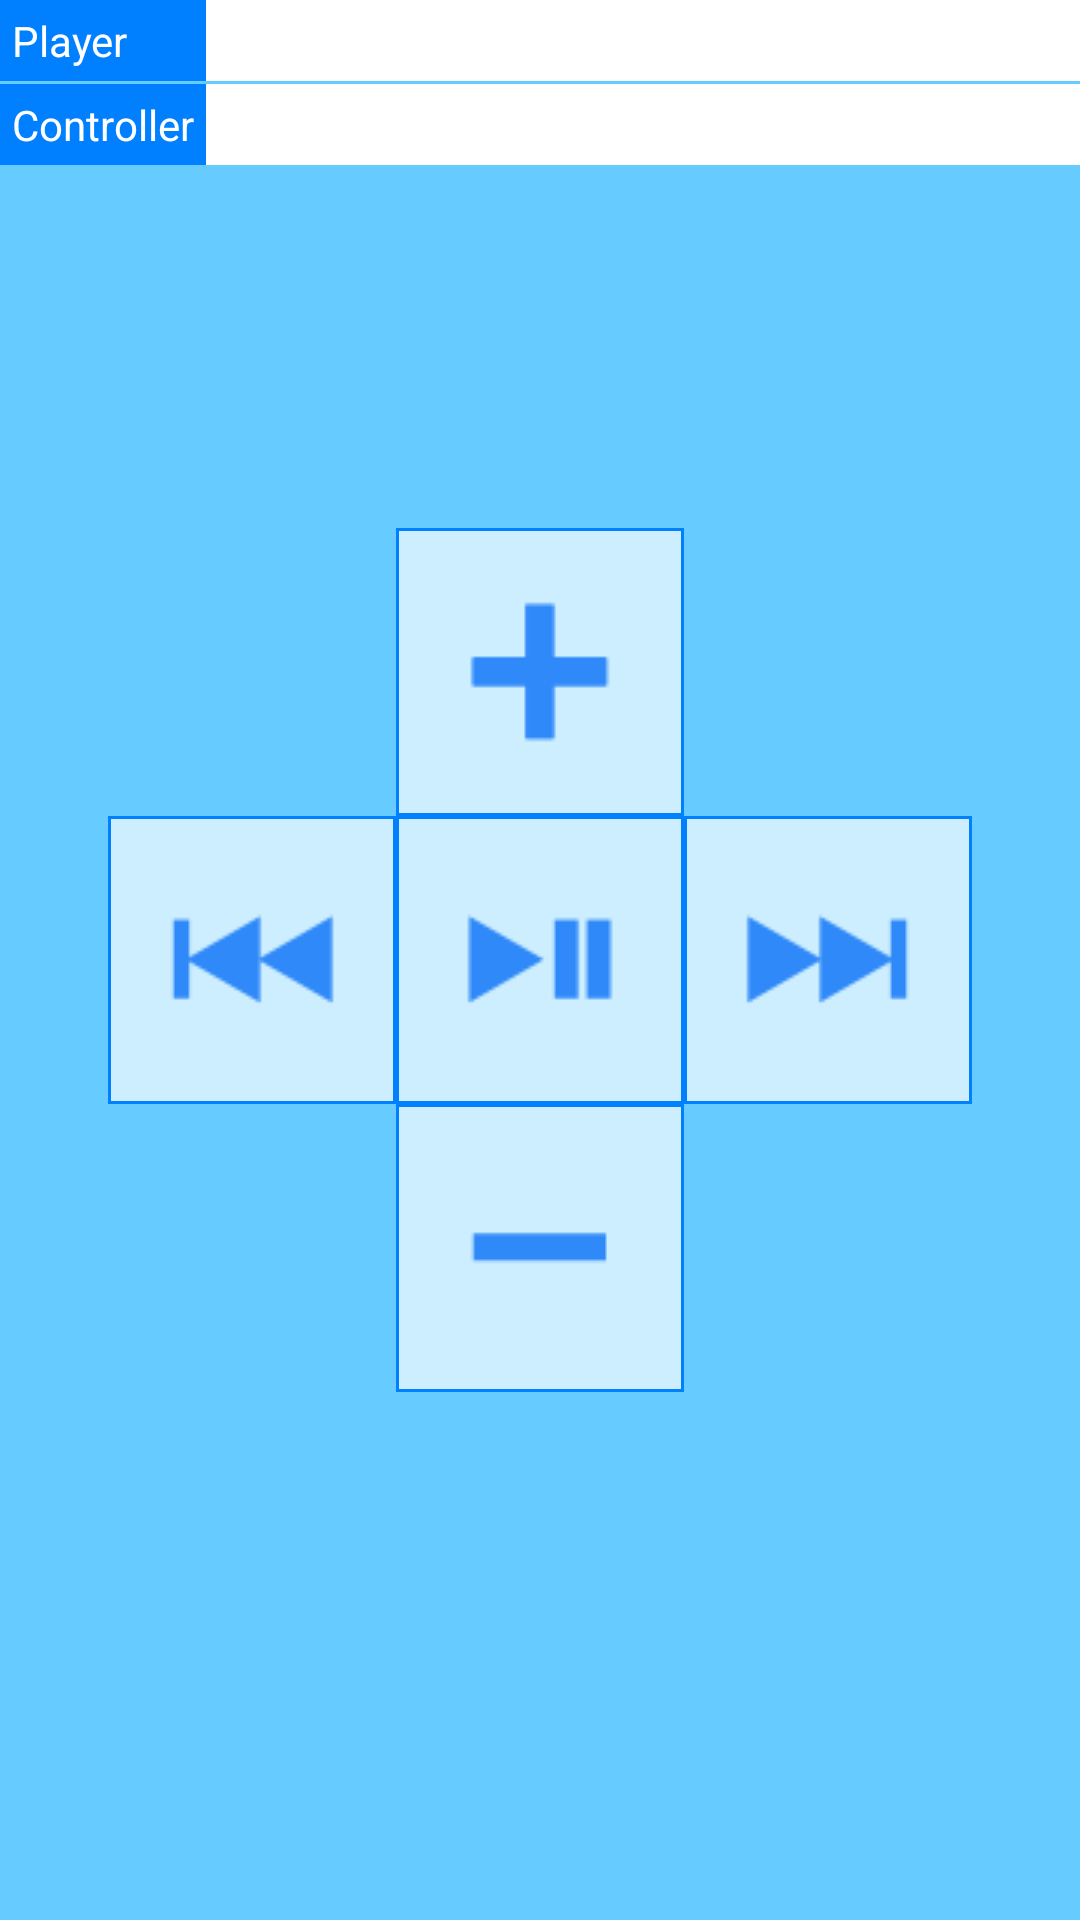

Locate icon controls on the screen. Image size 1080w x 1920h, boxes as BBox(x1, y1, x2, y2).
forward: BBox(684, 816, 972, 1104)
minus: BBox(396, 1104, 684, 1392)
play pause: BBox(399, 819, 681, 1101)
plus: BBox(396, 528, 684, 816)
rewind: BBox(108, 816, 396, 1104)
